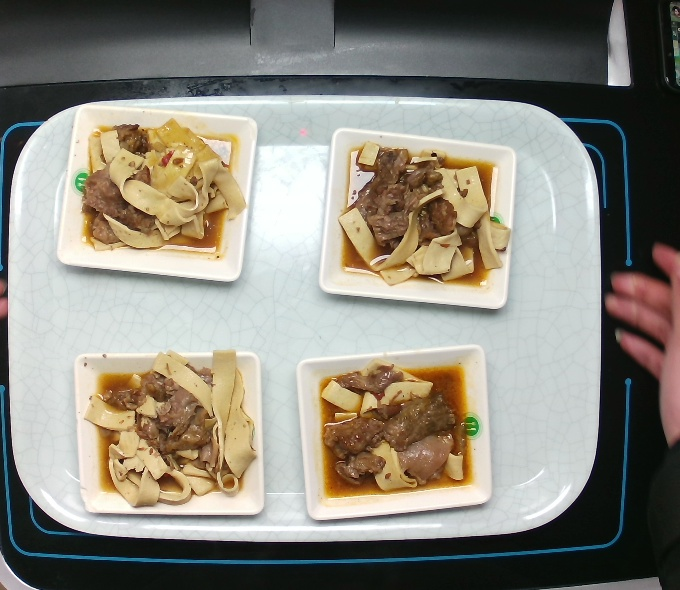wcq-QianZhangNiuNan: (85, 338, 270, 511), (337, 130, 511, 301), (78, 110, 249, 263), (313, 351, 474, 497)
